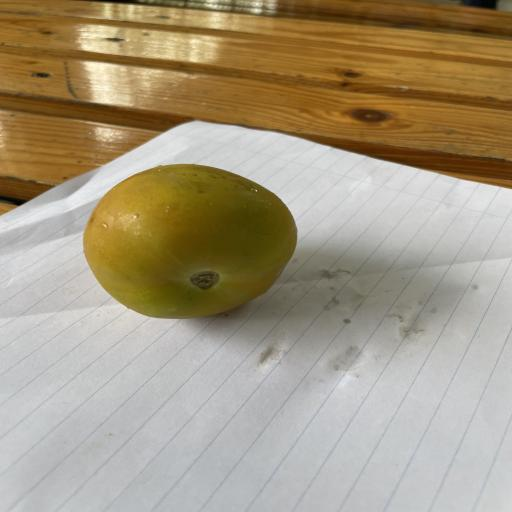unripe: (83, 164, 297, 319)
